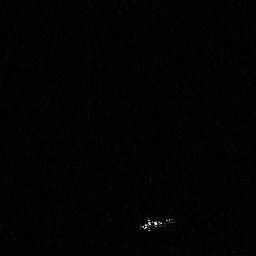ship: (137, 217, 178, 234)
